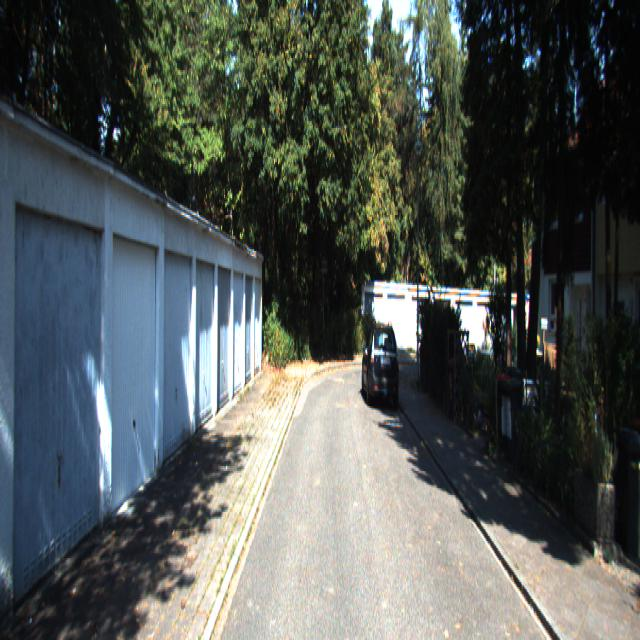Car: (361, 318, 398, 404)
